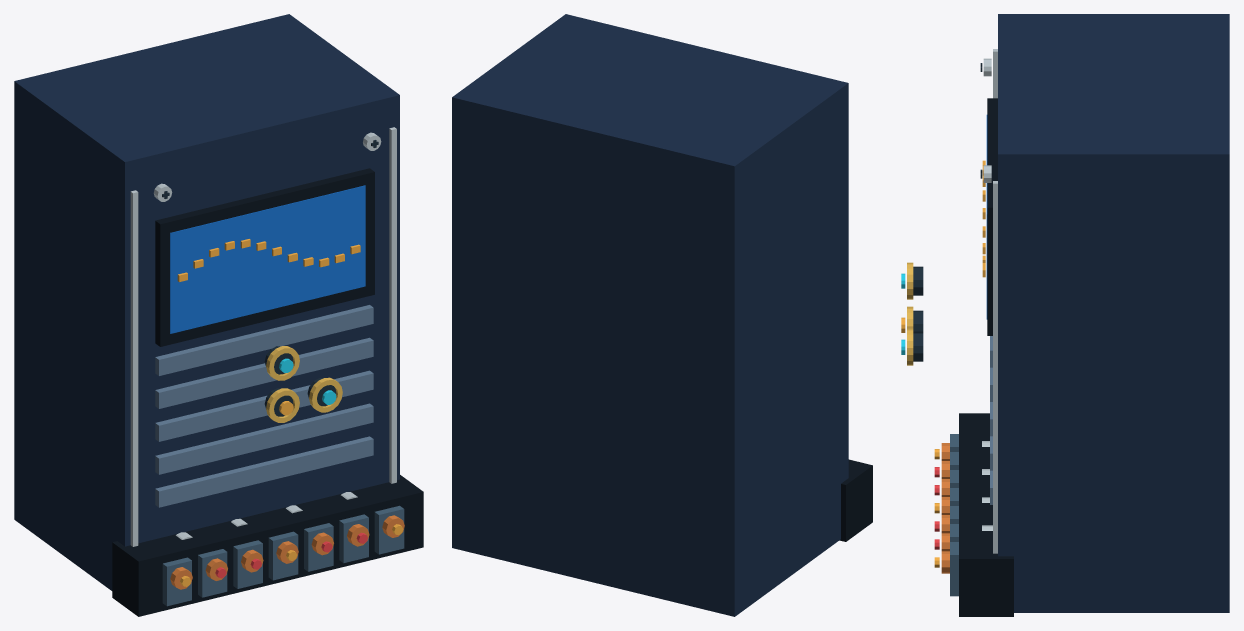
Rendered from 67_L83_MainBusEnergyManagementController.fbx.
3 views of the same model, side by side, from view 1: azimuth 30°, elevation 25°; view 2: azimuth 150°, elevation 25°; view 3: azimuth 270°, elevation 25° (orthographic). The views are drawn at different scales.
Parts seen in each view (by area): view 1: MainBusEnergyManagementController; view 2: MainBusEnergyManagementController; view 3: MainBusEnergyManagementController.
Part boxes in pixels (box(x1,y1,x2,y2)): MainBusEnergyManagementController: box(14, 14, 423, 616); MainBusEnergyManagementController: box(452, 14, 872, 616); MainBusEnergyManagementController: box(901, 14, 1229, 616).
Bounding box in the file's own units: 113 × 167 × 108.
